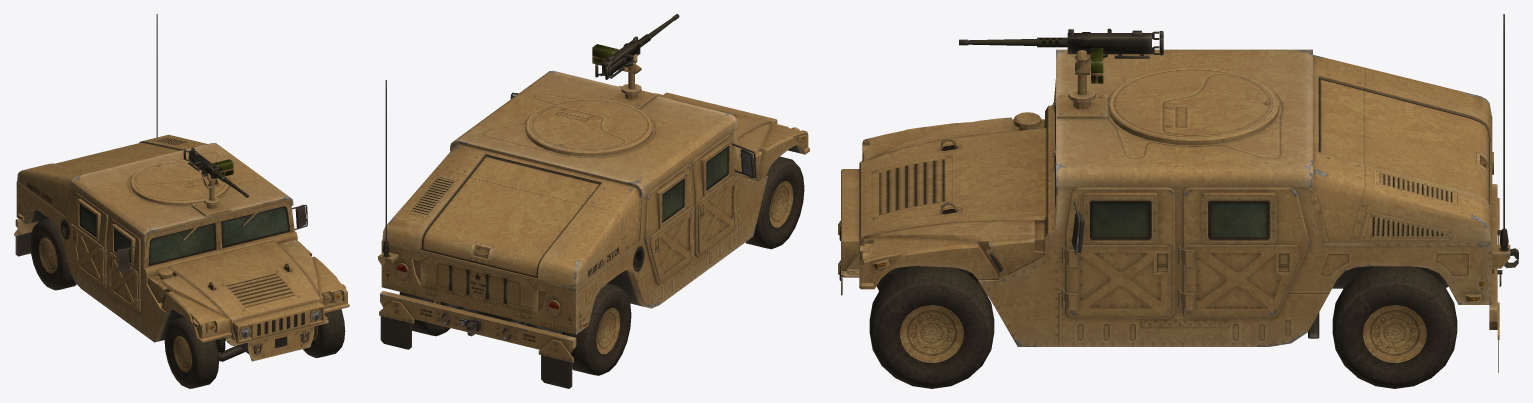
The model's file is Humvee.glb.
3 renders of one model, left to right at view 1: azimuth 30°, elevation 25°; view 2: azimuth 150°, elevation 25°; view 3: azimuth 270°, elevation 25°, orthographic. The views are drawn at different scales.
Parts seen in each view (by area): view 1: Humvee, Right_Wheel_1, Right_Wheel_2, Left_Wheel_1, Machine_Gun_Mesh; view 2: Humvee, Right_Wheel_2, Right_Wheel_1, Machine_Gun_Mesh, Left_Wheel_2; view 3: Humvee, Left_Wheel_2, Left_Wheel_1, Machine_Gun_Mesh.
Boxes of the visible parts, x1,y1,x2,y2 form: Humvee: (14, 14, 349, 361); Right_Wheel_1: (164, 317, 218, 388); Right_Wheel_2: (30, 218, 76, 290); Left_Wheel_1: (303, 309, 345, 357); Machine_Gun_Mesh: (183, 147, 248, 200); Humvee: (378, 70, 809, 388); Right_Wheel_2: (562, 283, 631, 375); Right_Wheel_1: (745, 156, 804, 249); Machine_Gun_Mesh: (592, 14, 679, 88); Left_Wheel_2: (399, 292, 450, 336); Humvee: (838, 14, 1518, 372); Left_Wheel_2: (1332, 266, 1457, 388); Left_Wheel_1: (869, 266, 994, 388); Machine_Gun_Mesh: (959, 28, 1163, 94).
Bounding box in the file's own units: 2.74 × 2.99 × 4.94.
Materials: 1 (1 with a texture image).
